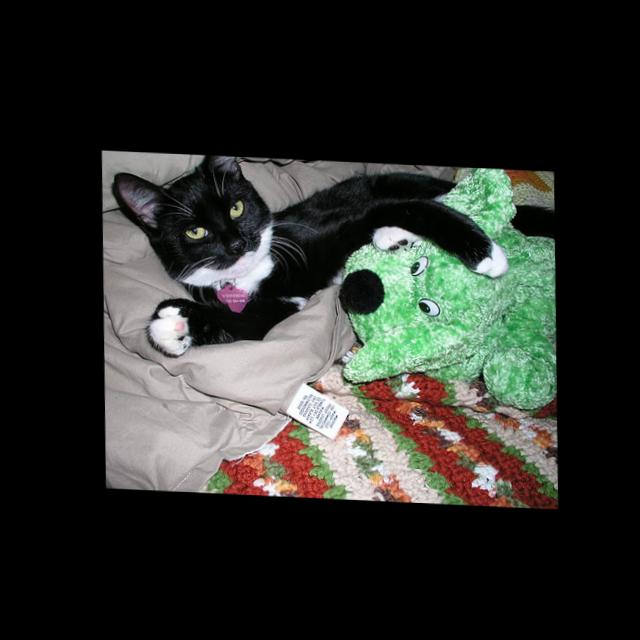animals: (111, 150, 242, 248)
